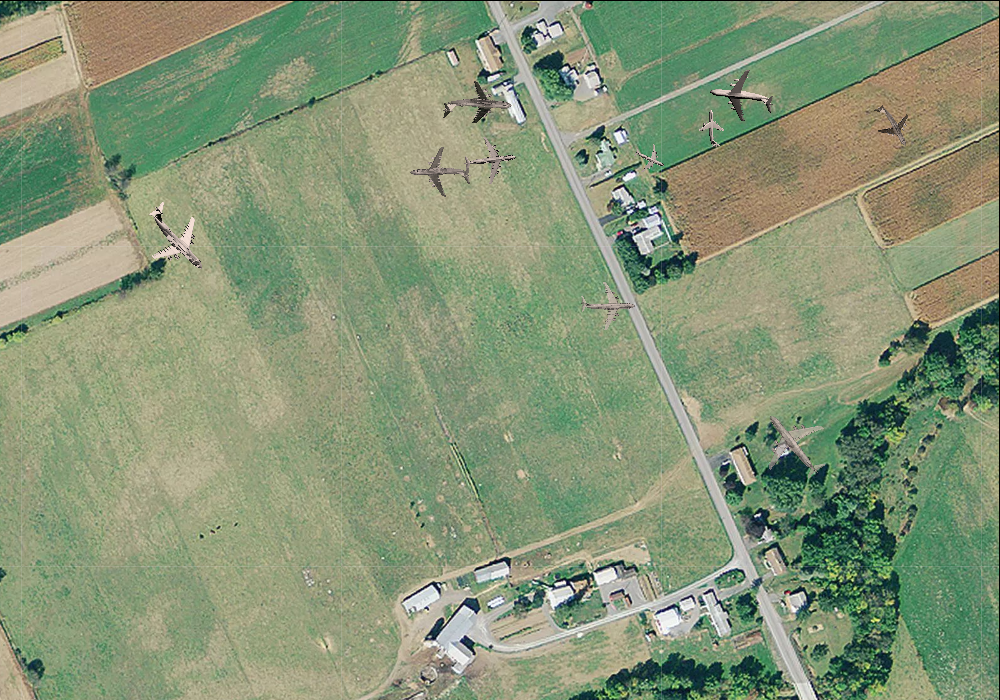plane: (125, 186, 229, 289), (743, 393, 844, 495), (707, 64, 777, 130), (440, 75, 513, 137), (862, 94, 922, 156), (409, 144, 471, 202), (461, 133, 518, 186), (580, 278, 635, 331), (628, 137, 671, 179), (697, 109, 729, 147)
